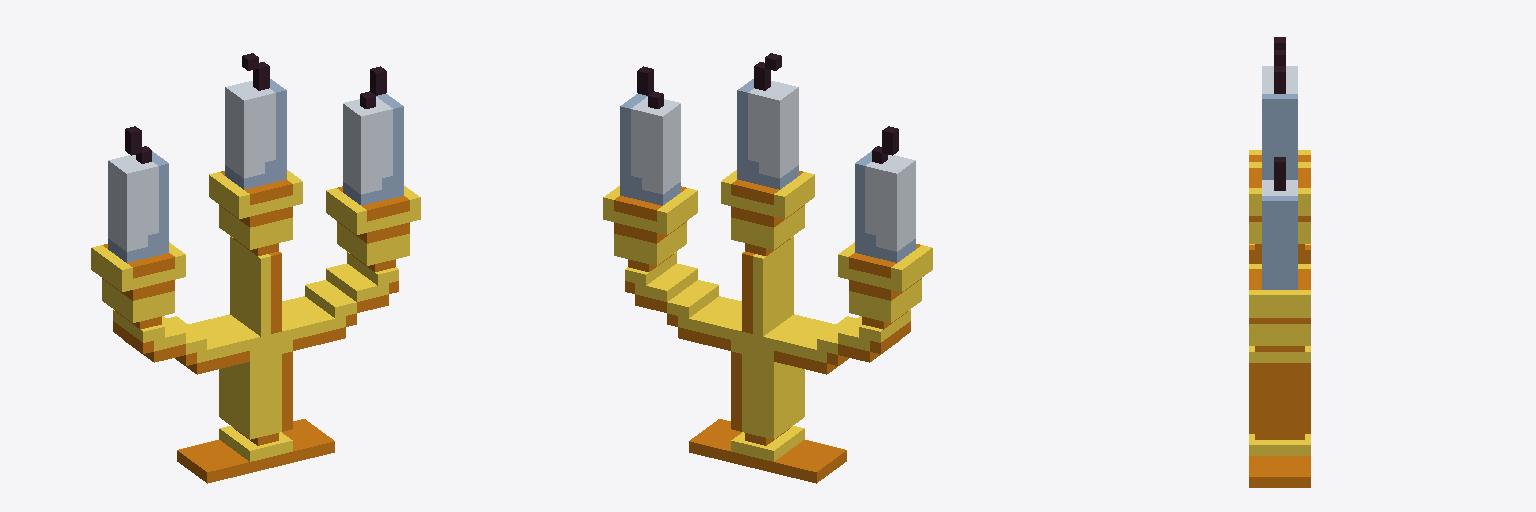
The model's file is Candelabra.obj.
3 renders of one model, left to right at view 1: azimuth 30°, elevation 25°; view 2: azimuth 150°, elevation 25°; view 3: azimuth 270°, elevation 25°, orthographic.
Bounding box in the file's own units: 28 × 36 × 5.